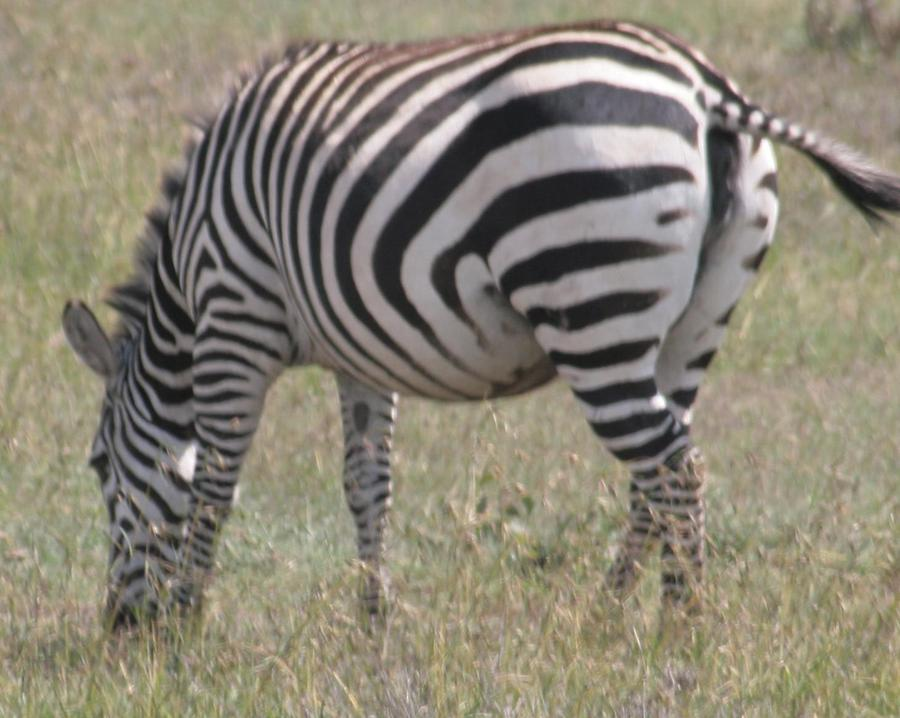zebra_plains: (155, 34, 673, 434)
